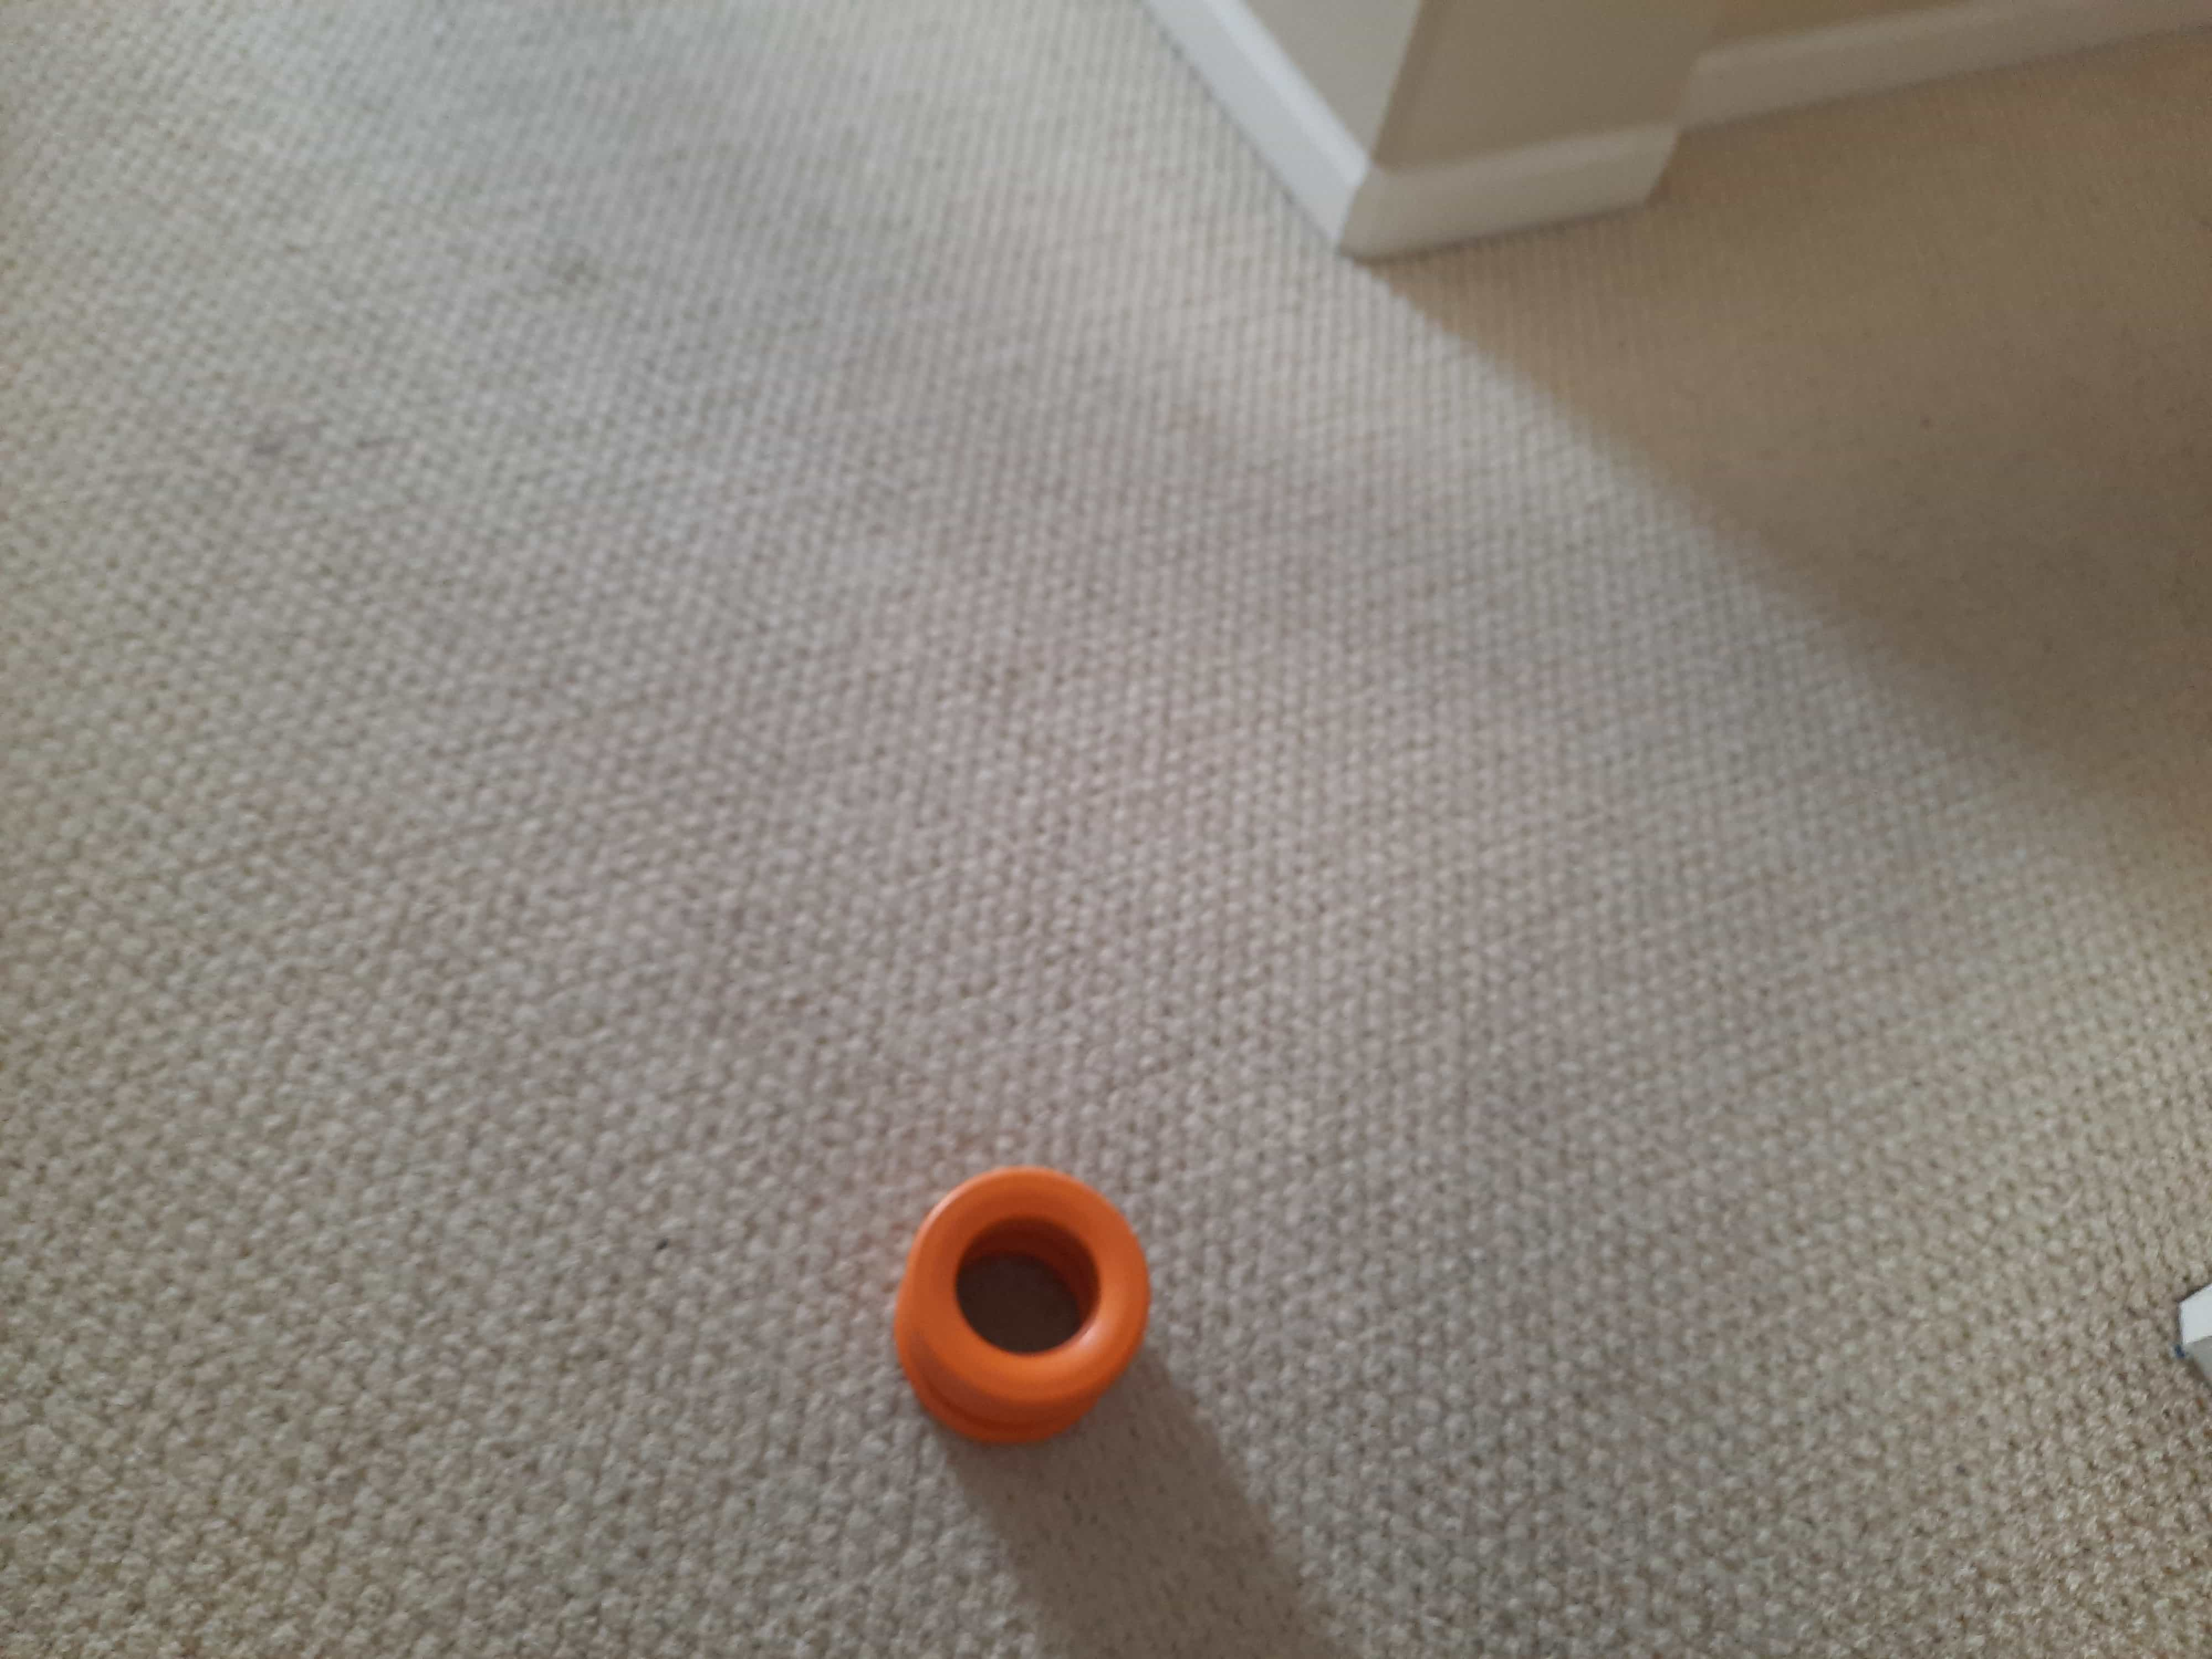FourStack: (895, 1171, 1153, 1448)
